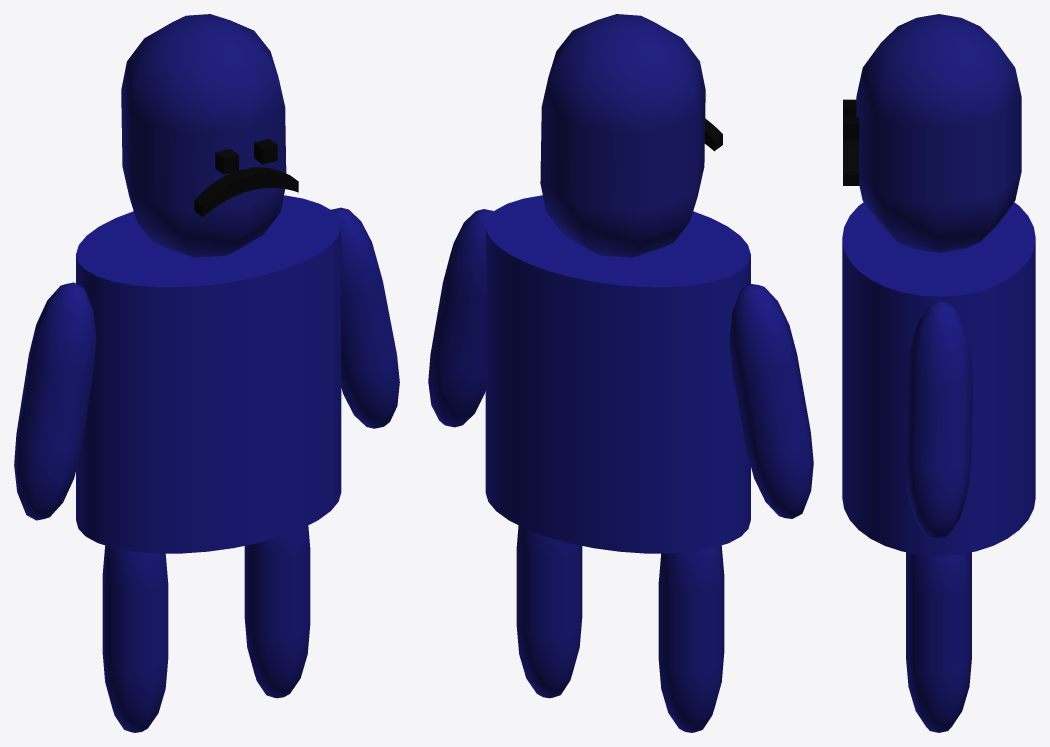
The model's file is enemy2.glb.
3 renders of one model, left to right at view 1: azimuth 30°, elevation 25°; view 2: azimuth 150°, elevation 25°; view 3: azimuth 270°, elevation 25°, orthographic. The views are drawn at different scales.
Visible parts, largest first — view 1: body, head, left_arm, left_leg, right_leg, right_arm, face; view 2: body, head, left_arm, left_leg, right_leg, right_arm; view 3: body, head, right_arm, right_leg, face.
Part boxes in pixels (box(x1,y1,x2,y2)): body: box(76, 195, 341, 553); head: box(121, 14, 286, 257); left_arm: box(14, 282, 96, 520); left_leg: box(102, 545, 168, 732); right_leg: box(244, 525, 310, 698); right_arm: box(331, 207, 399, 428); face: box(194, 138, 298, 217); body: box(485, 195, 750, 553); head: box(540, 14, 705, 257); left_arm: box(729, 284, 813, 518); left_leg: box(658, 545, 724, 732); right_leg: box(516, 525, 582, 698); right_arm: box(428, 209, 493, 427); body: box(842, 202, 1035, 555); head: box(856, 14, 1021, 252); right_arm: box(905, 300, 972, 539); right_leg: box(906, 552, 971, 732); face: box(843, 99, 859, 185).
Bounding box in the file's own units: 1.29 × 2.26 × 0.586.
